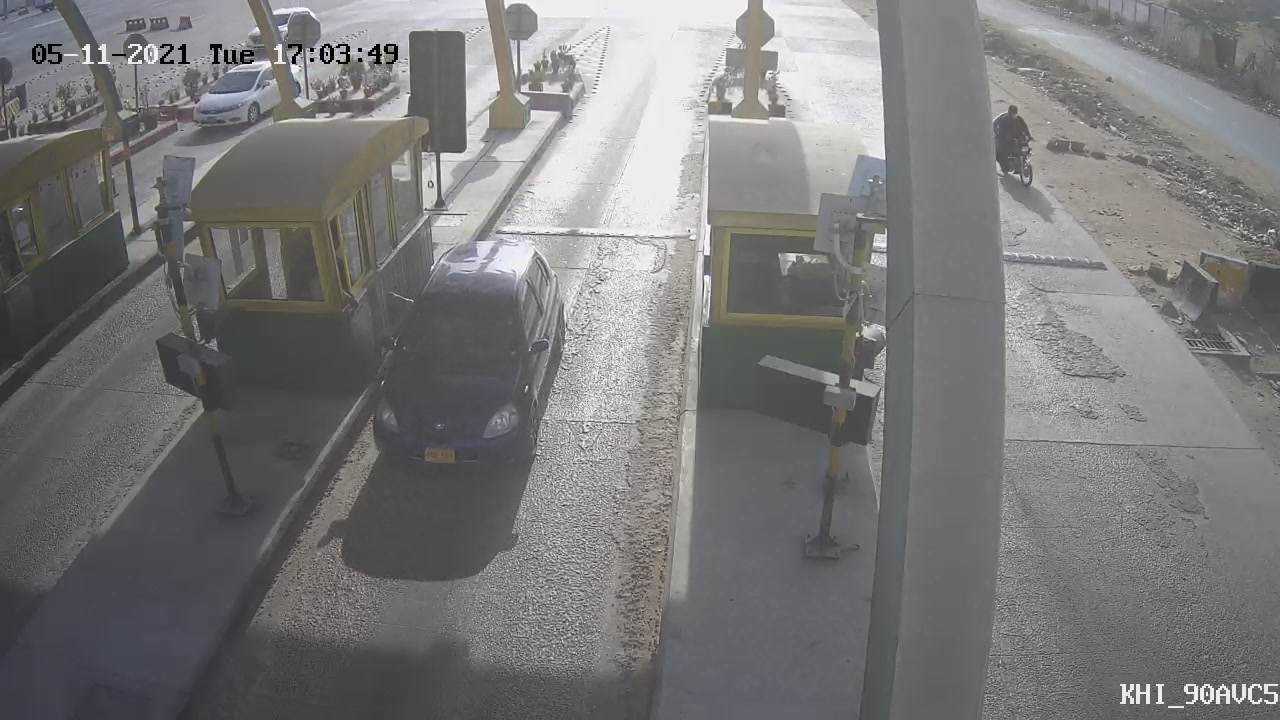F1: (344, 214, 587, 500)
